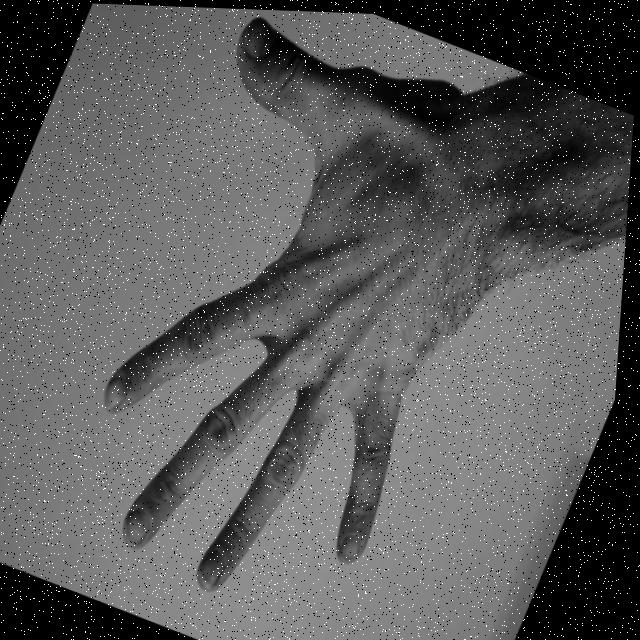hand: (34, 2, 549, 640)
